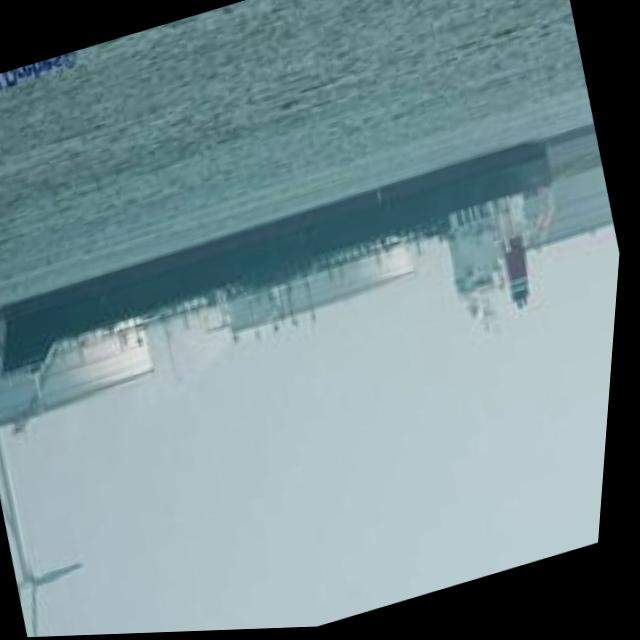ship2: (6, 145, 561, 372)
